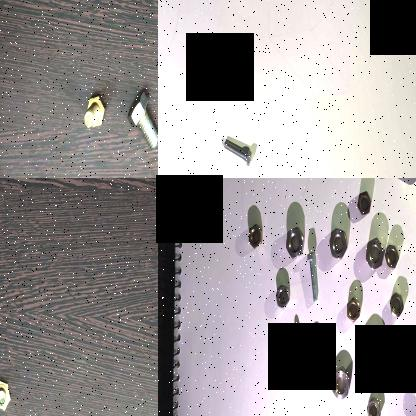Bolts: (122, 86, 158, 154), (219, 134, 255, 170), (80, 88, 108, 134), (304, 242, 322, 306), (289, 322, 311, 374), (0, 377, 12, 416)
NUTS: (358, 338, 382, 382), (330, 362, 352, 404), (328, 224, 350, 262), (285, 223, 307, 260), (366, 232, 386, 272), (344, 297, 364, 326), (245, 221, 265, 250), (308, 334, 326, 360), (386, 240, 400, 272), (276, 282, 292, 310), (358, 188, 372, 218), (390, 290, 404, 319), (364, 398, 383, 416), (409, 363, 416, 405)
